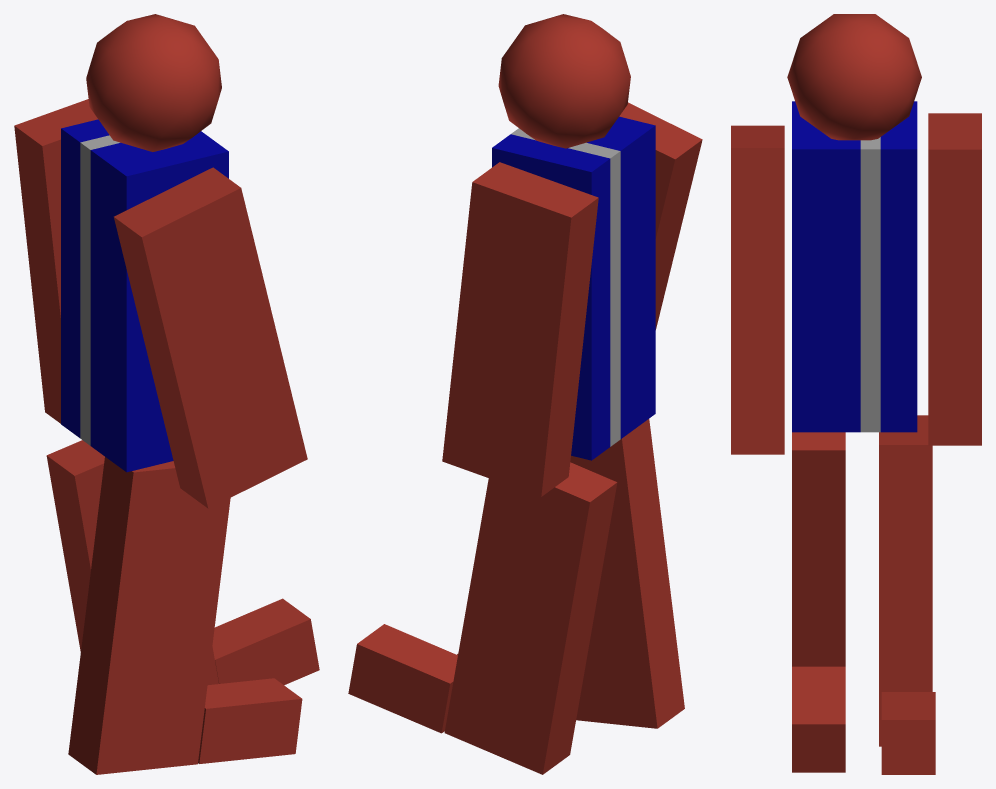
The model's file is player_000045.obj.
The picture shows the model from 3 angles, left to right: view 1: azimuth 30°, elevation 25°; view 2: azimuth 150°, elevation 25°; view 3: azimuth 270°, elevation 25°; orthographic projection. The views are drawn at different scales.
Visible parts, largest first — view 1: Cube.005, Cube.001, Cube, Icosphere, Cube.006, Cube.003, Cube.004, Cube.002; view 2: Cube.006, Cube.002, Cube, Cube.001, Icosphere, Cube.004, Cube.005; view 3: Cube, Cube.006, Cube.005, Cube.002, Icosphere, Cube.001, Cube.003, Cube.004.
Boxes of the visible parts, left/top/right/bottom form: Cube.005: left=114, top=167, right=307, bottom=508; Cube.001: left=68, top=457, right=230, bottom=774; Cube: left=61, top=119, right=228, bottom=472; Icosphere: left=86, top=14, right=221, bottom=151; Cube.006: left=14, top=99, right=97, bottom=423; Cube.003: left=198, top=678, right=302, bottom=763; Cube.004: left=212, top=598, right=319, bottom=685; Cube.002: left=46, top=440, right=218, bottom=684; Cube.006: left=442, top=162, right=598, bottom=496; Cube.002: left=444, top=462, right=617, bottom=774; Cube: left=492, top=116, right=655, bottom=460; Cube.001: left=570, top=419, right=684, bottom=728; Icosphere: left=498, top=14, right=630, bottom=148; Cube.004: left=348, top=624, right=457, bottom=733; Cube.005: left=619, top=102, right=702, bottom=329; Cube: left=792, top=101, right=917, bottom=432; Cube.006: left=928, top=113, right=981, bottom=445; Cube.005: left=731, top=125, right=784, bottom=454; Cube.002: left=879, top=415, right=932, bottom=746; Icosphere: left=787, top=14, right=921, bottom=140; Cube.001: left=792, top=432, right=845, bottom=666; Cube.003: left=792, top=666, right=845, bottom=772; Cube.004: left=881, top=692, right=935, bottom=774.
Size of the model in its own units: 1.09 by 2.85 by 0.9137.
